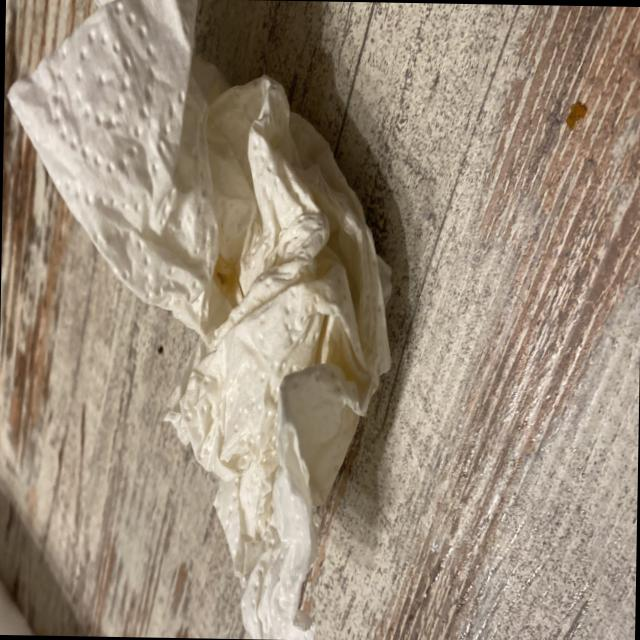organic waste: (0, 0, 402, 640)
